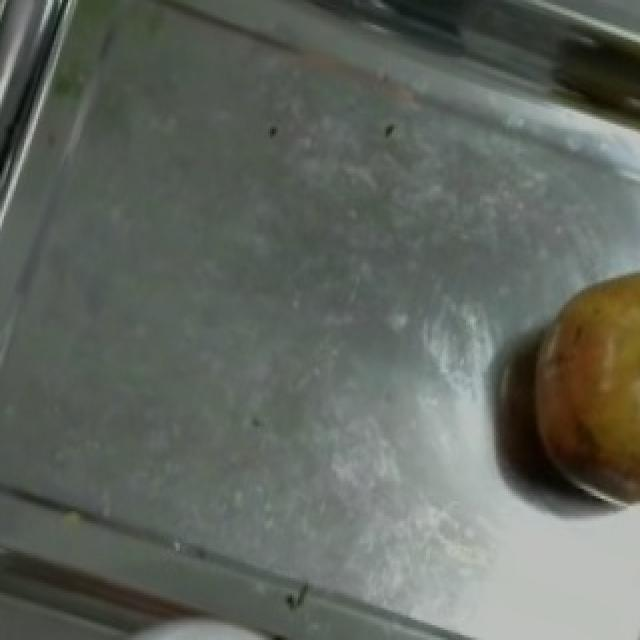fruit: (512, 251, 638, 528)
